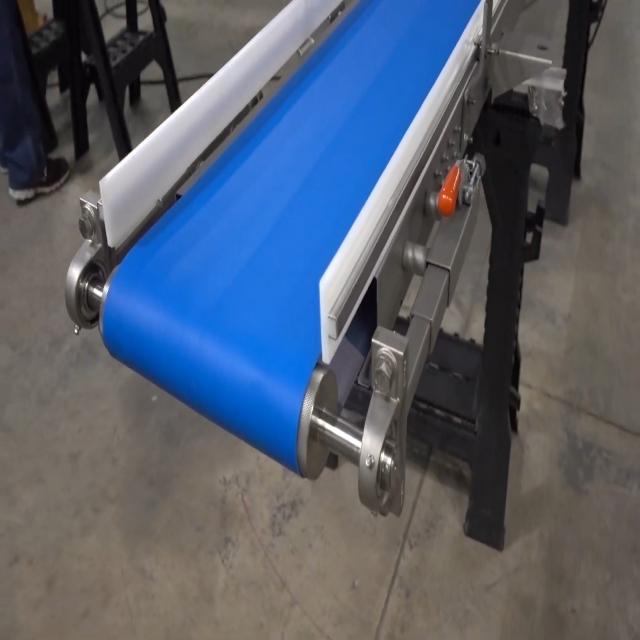Convoyeur: (62, 0, 531, 486)
